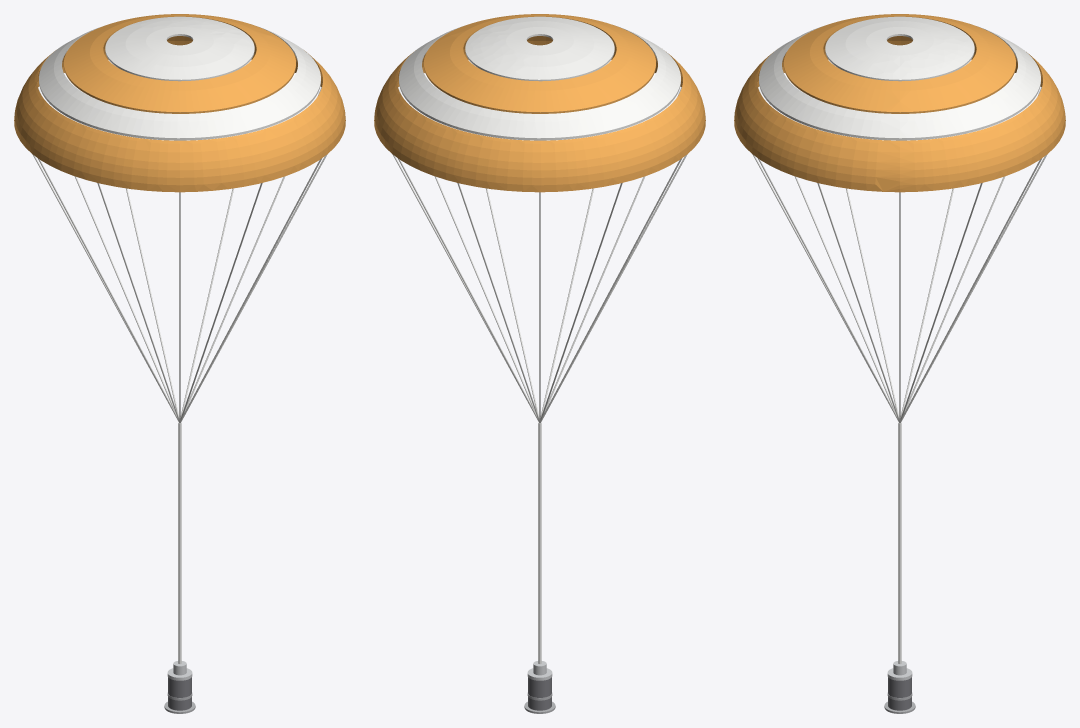
Rendered from stage07_drogue_chute_deployed.glb.
The picture shows the model from 3 angles, left to right: view 1: azimuth 30°, elevation 25°; view 2: azimuth 150°, elevation 25°; view 3: azimuth 270°, elevation 25°; orthographic projection.
Parts seen in each view (by area): view 1: canopy_ring_3, canopy_ring_1, canopy_ring_2, canopy_ring_0, lines_riser, canister; view 2: canopy_ring_3, canopy_ring_1, canopy_ring_2, canopy_ring_0, lines_riser, canister; view 3: canopy_ring_3, canopy_ring_1, canopy_ring_2, canopy_ring_0, lines_riser, canister.
Boxes of the visible parts, <box> form: canopy_ring_3: <box>14,36,345,192</box>; canopy_ring_1: <box>64,14,295,113</box>; canopy_ring_2: <box>39,26,320,140</box>; canopy_ring_0: <box>105,16,254,81</box>; lines_riser: <box>32,87,327,663</box>; canister: <box>168,677,191,710</box>; canopy_ring_3: <box>374,36,705,192</box>; canopy_ring_1: <box>424,14,655,113</box>; canopy_ring_2: <box>399,26,680,140</box>; canopy_ring_0: <box>465,16,614,81</box>; lines_riser: <box>392,87,687,663</box>; canister: <box>528,677,551,710</box>; canopy_ring_3: <box>734,36,1065,192</box>; canopy_ring_1: <box>784,14,1015,113</box>; canopy_ring_2: <box>759,26,1040,140</box>; canopy_ring_0: <box>825,16,974,81</box>; lines_riser: <box>752,87,1047,663</box>; canister: <box>888,677,911,710</box>.
Size of the model in its own units: 5 by 11.1 by 5.
